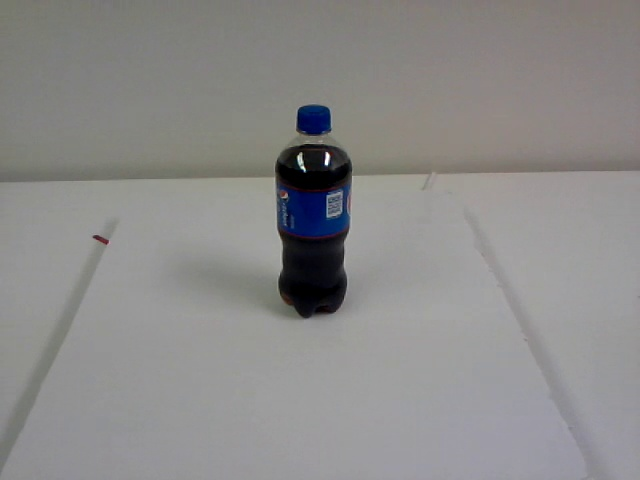botolplastik: (276, 106, 351, 318)
